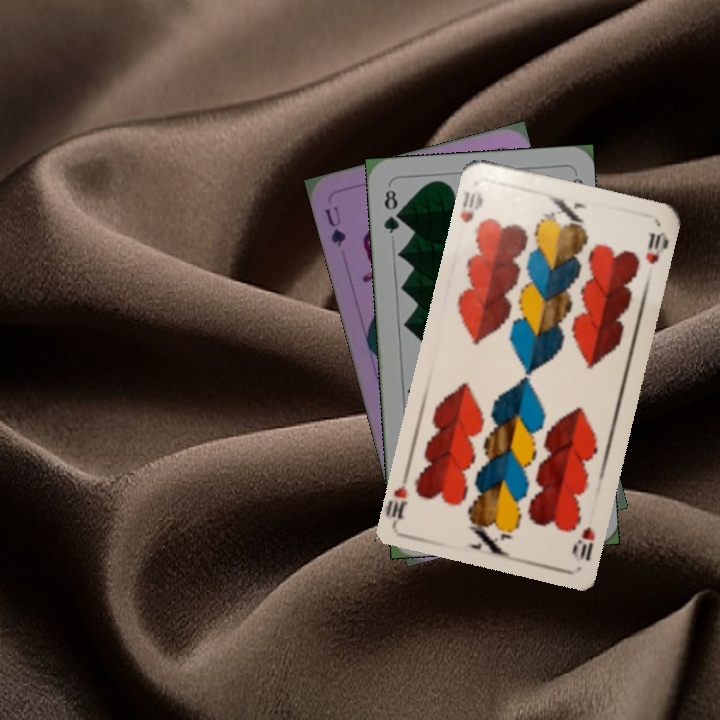G8: (379, 185, 403, 237)
GU: (321, 202, 349, 250)
H10: (567, 522, 598, 564), (456, 186, 486, 226)
